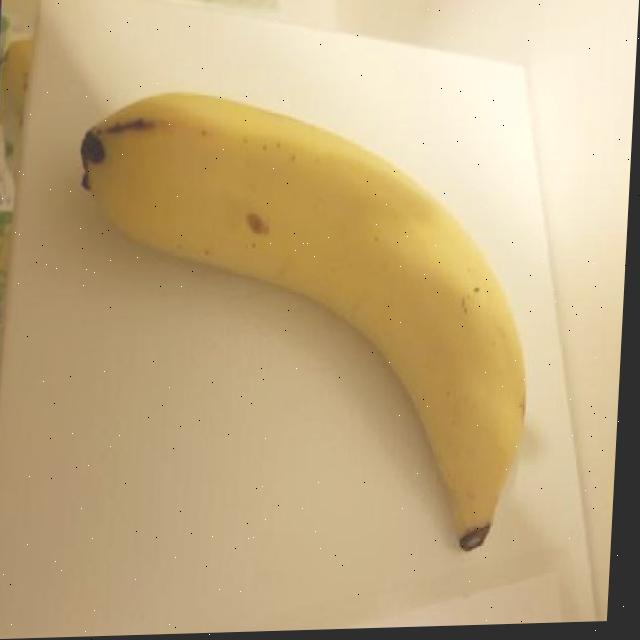banana: (48, 61, 553, 572)
